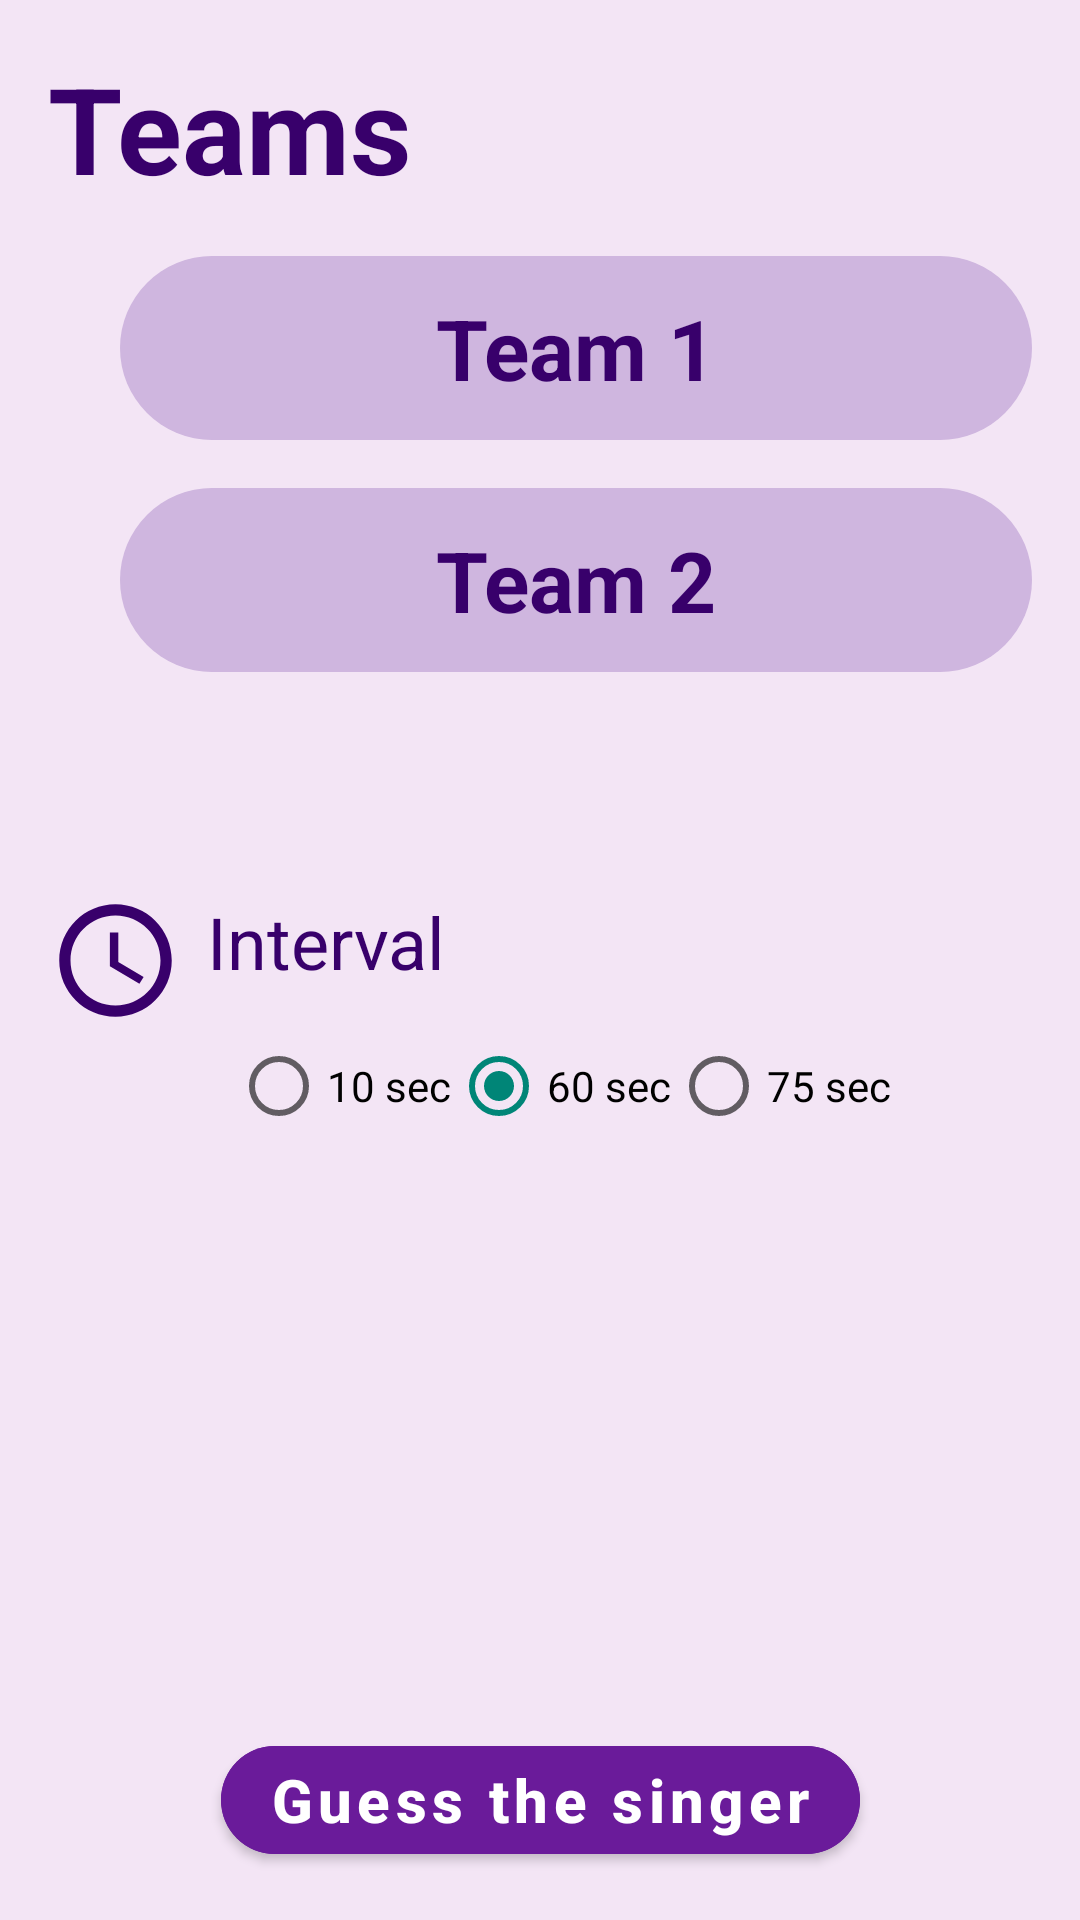

Point at icon controls on the screen. Image size 1080*1920, points as (x=x, y=y).
timer: (x=115, y=960)
